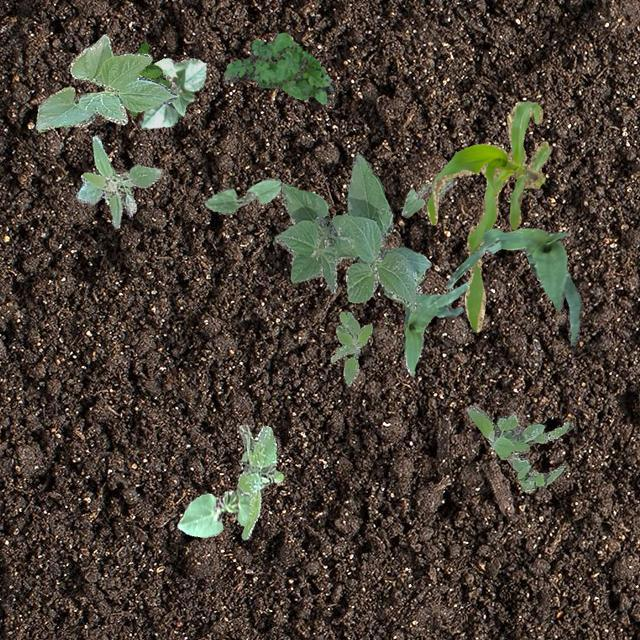crop: (426, 100, 550, 332), (274, 153, 429, 310), (444, 226, 582, 344), (34, 32, 176, 130), (380, 280, 468, 374), (139, 58, 205, 128), (177, 488, 250, 536), (203, 176, 280, 214), (401, 176, 454, 216)
weed: (464, 403, 572, 492), (74, 134, 162, 228), (222, 32, 334, 104), (235, 424, 282, 538), (329, 310, 372, 386), (128, 42, 170, 114)
